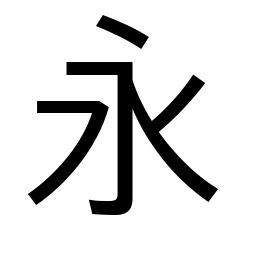D: (93, 12, 151, 51)
HSZ: (111, 58, 137, 91)
Hs: (63, 59, 100, 77)
Ne: (192, 175, 220, 204)
PNc: (140, 107, 165, 145)
PZe: (26, 178, 62, 206)
Ps: (180, 72, 207, 101)
SG: (87, 191, 137, 218)
Sm: (114, 145, 136, 172)
TPZ: (82, 98, 110, 134)
Ts: (34, 98, 64, 117)
